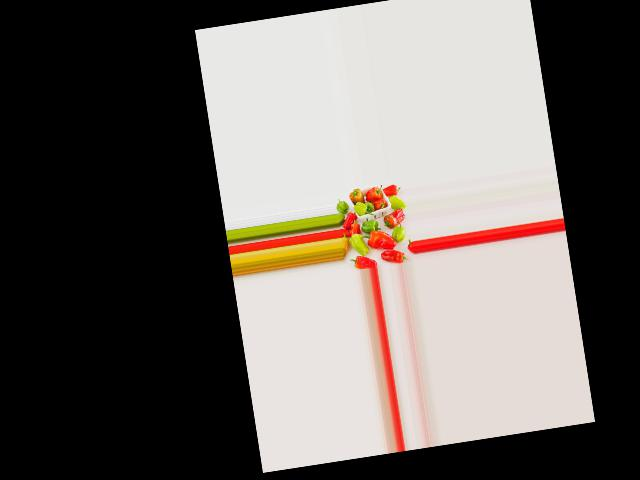bell_pepper: (348, 251, 374, 271)
